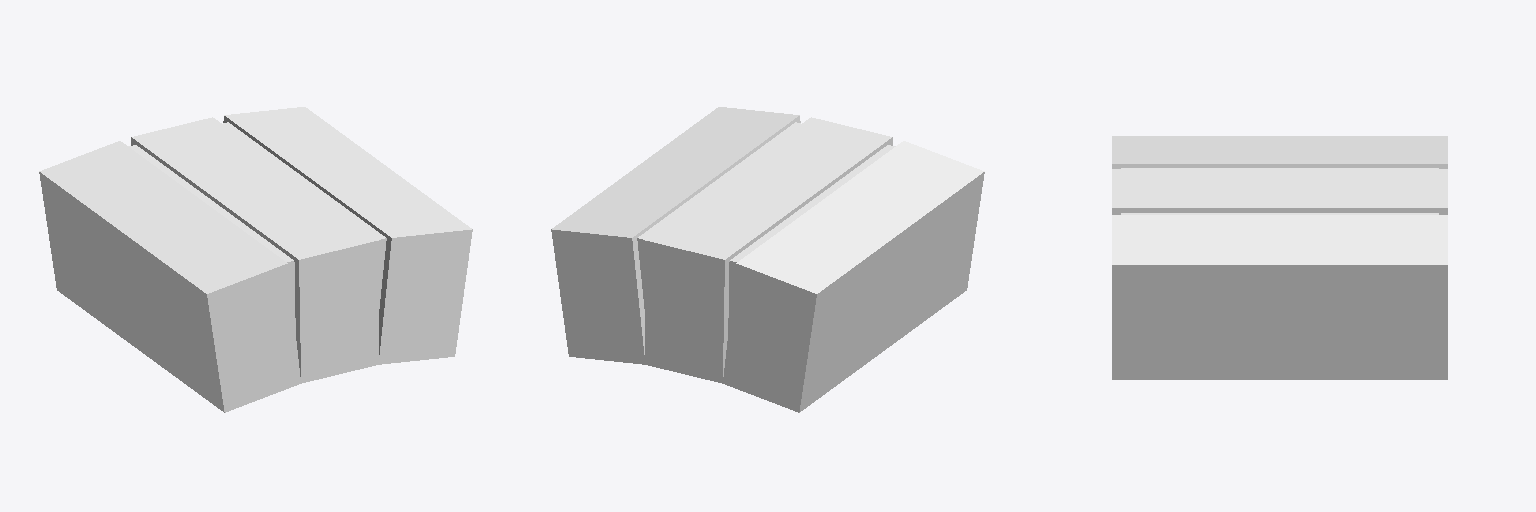
File: generic_segmental_arch_3_middle.obj
The picture shows the model from 3 angles: view 1: azimuth 30°, elevation 25°; view 2: azimuth 150°, elevation 25°; view 3: azimuth 270°, elevation 25°; orthographic projection.
Parts seen in each view (by area): view 1: tube_selection, tube_selection.000; view 2: tube_selection, tube_selection.000; view 3: tube_selection, tube_selection.000.
Part boxes in pixels (x1,y1,x2,y2): tube_selection: (39, 107, 472, 412); tube_selection.000: (128, 122, 386, 331); tube_selection: (551, 107, 984, 412); tube_selection.000: (637, 122, 895, 331); tube_selection: (1112, 136, 1447, 379); tube_selection.000: (1121, 168, 1438, 214).
Bounding box in the file's own units: 1.04 × 0.5034 × 1.13.